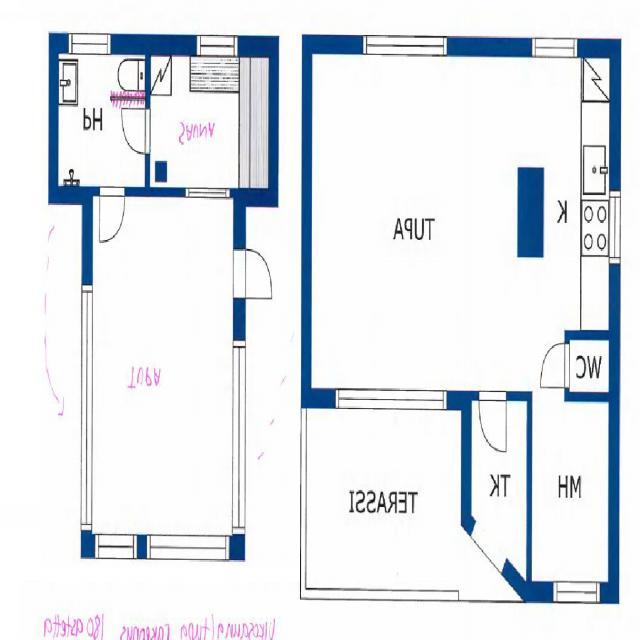door: (234, 248, 272, 298), (478, 390, 506, 455), (100, 189, 125, 244), (541, 344, 570, 388), (121, 108, 149, 153)
